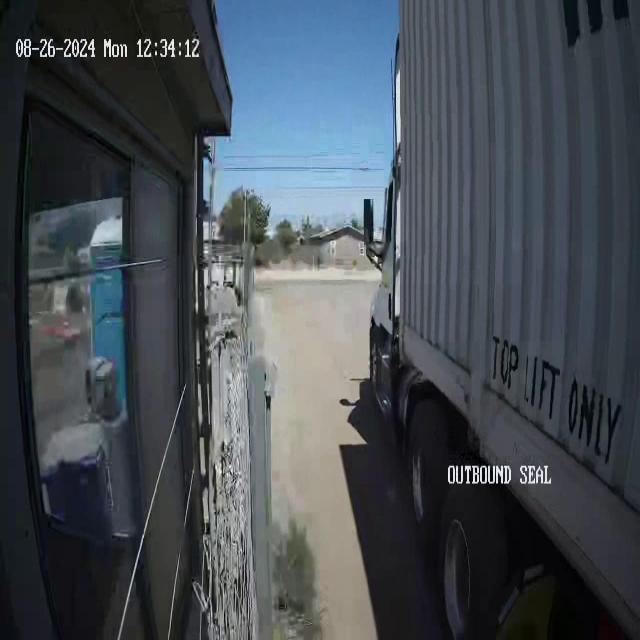CONTAINER: (405, 1, 639, 640)
